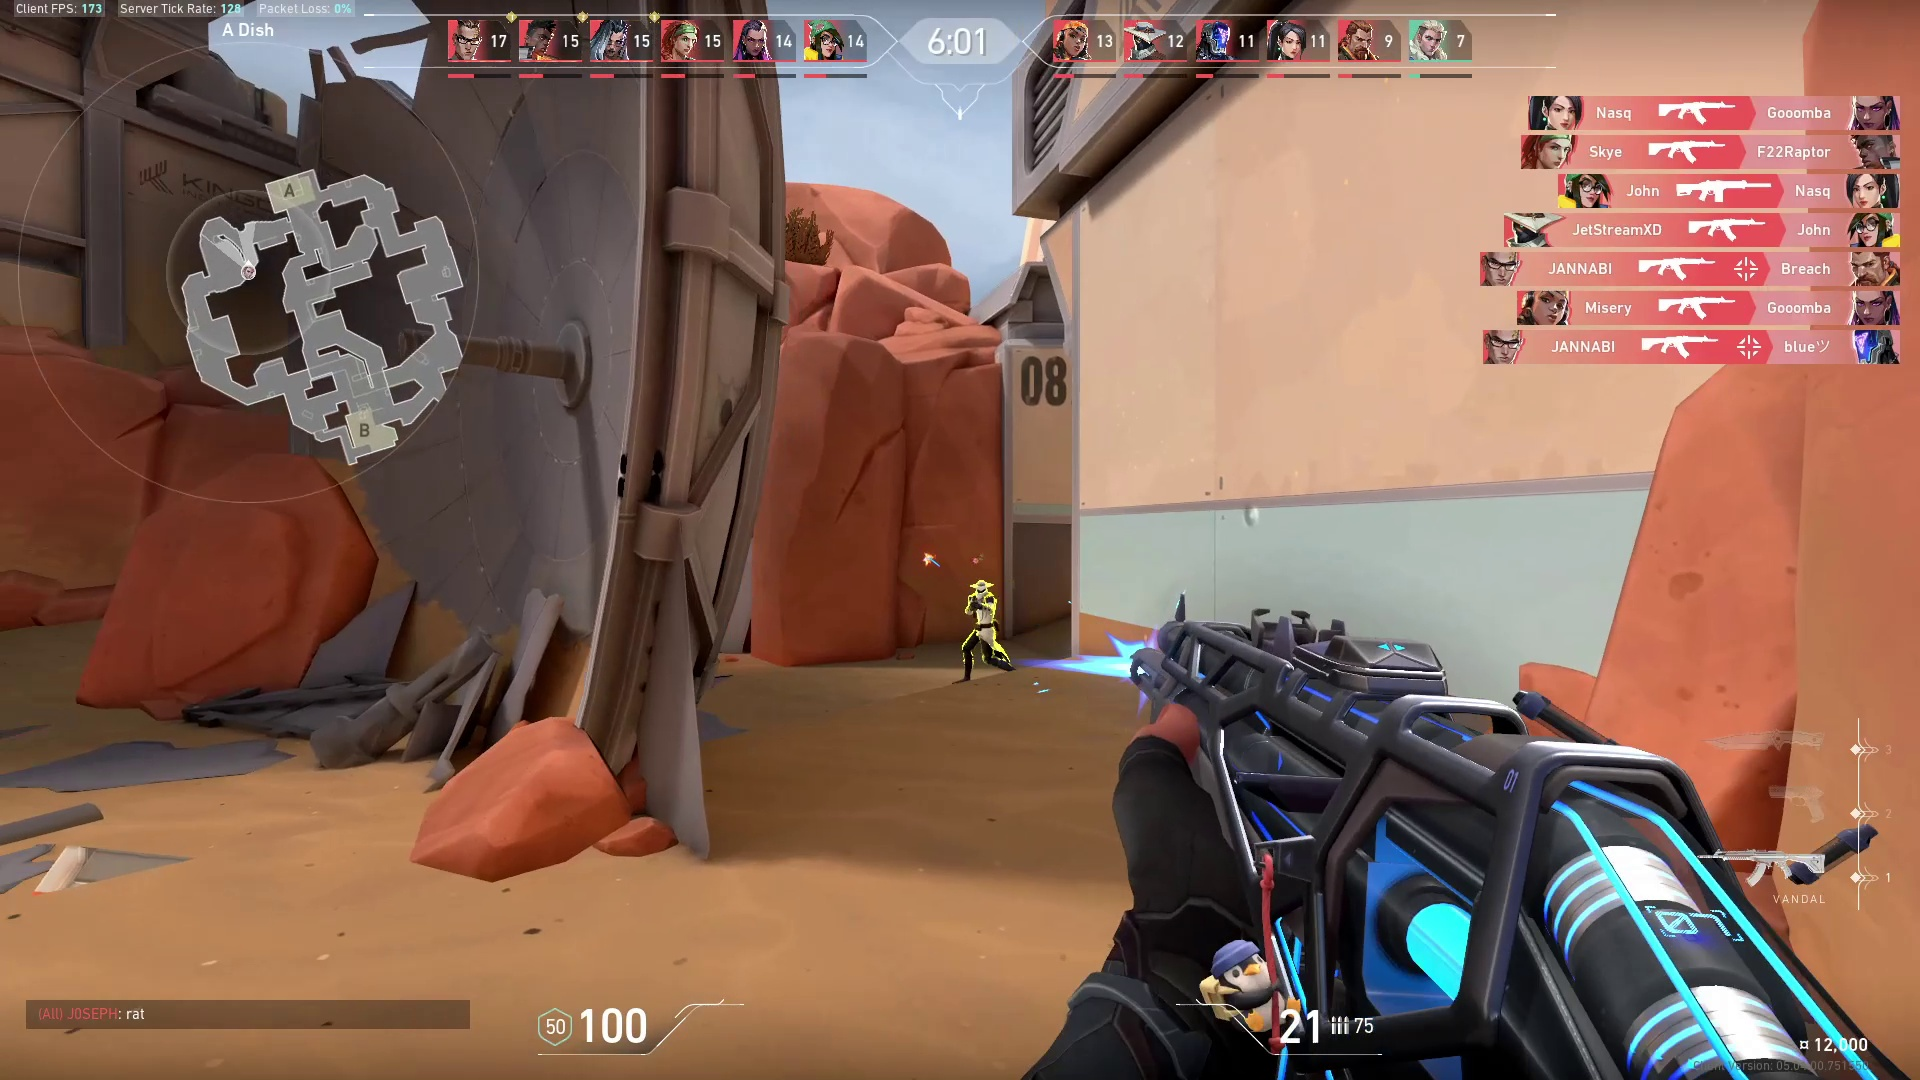enemy_body: (952, 593, 1027, 684)
enemy_head: (968, 576, 1000, 599)
